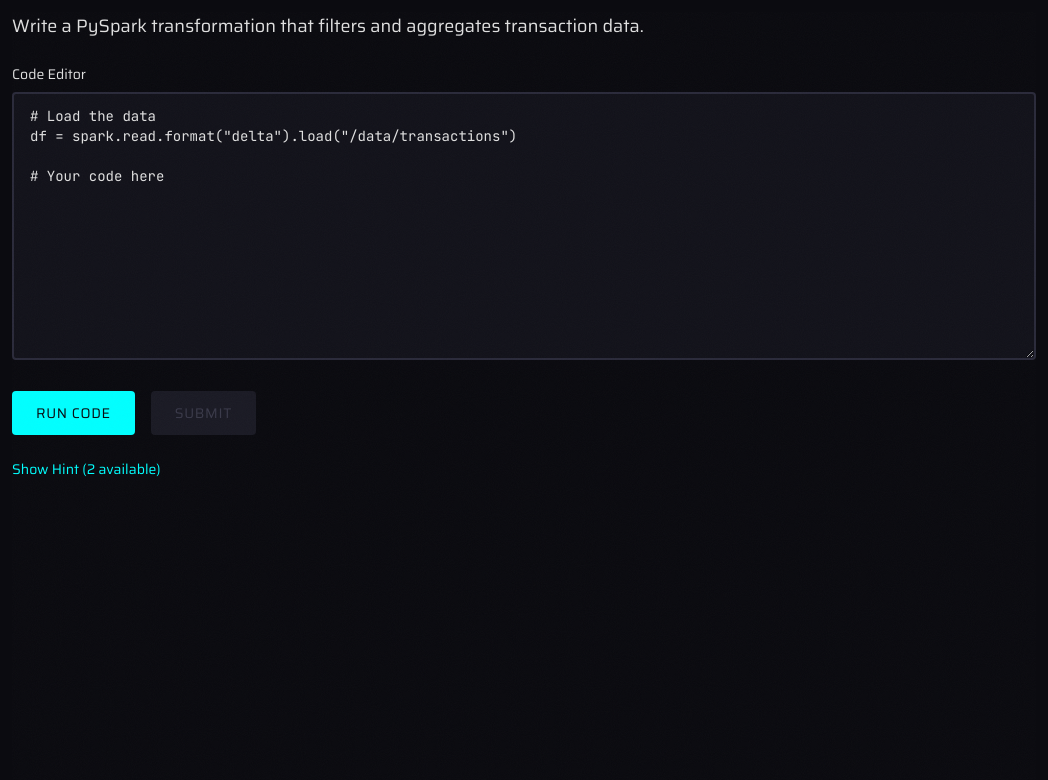
Test: FreeTextChallenge › Code Execution (Simulated) › disables run button while code is running
Click the button "Run Code". click: (73, 413)
box: [12,391,135,435]
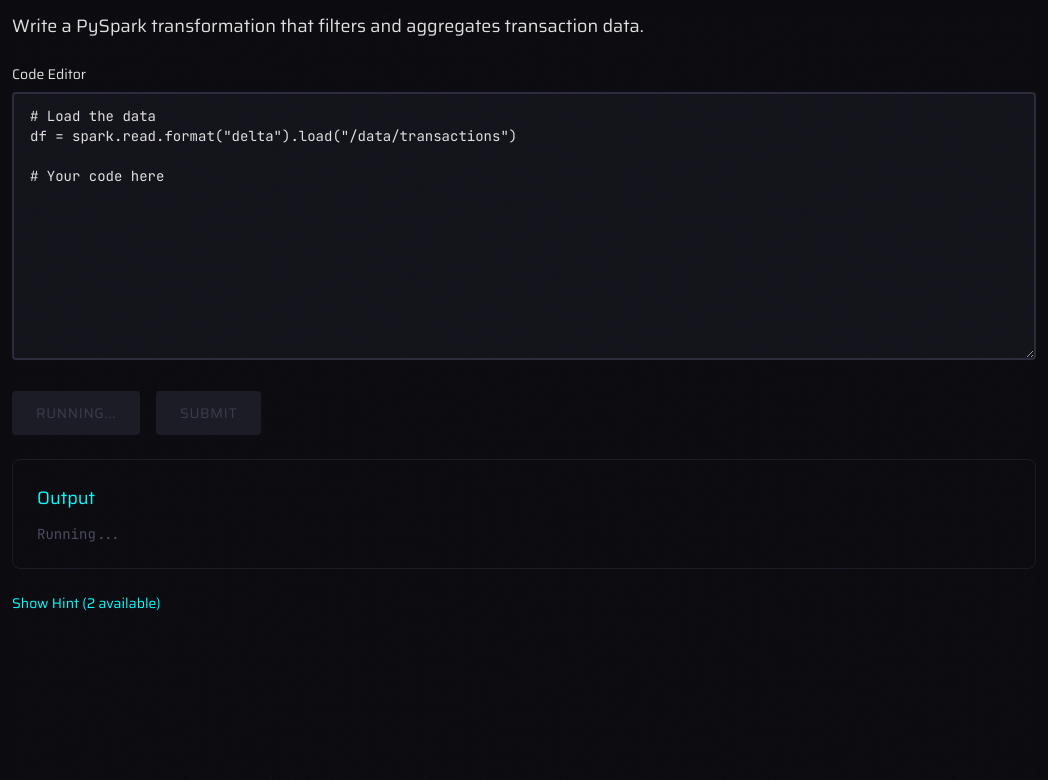
Expected: the button named "run code" is disabled, [12,391,140,435]
